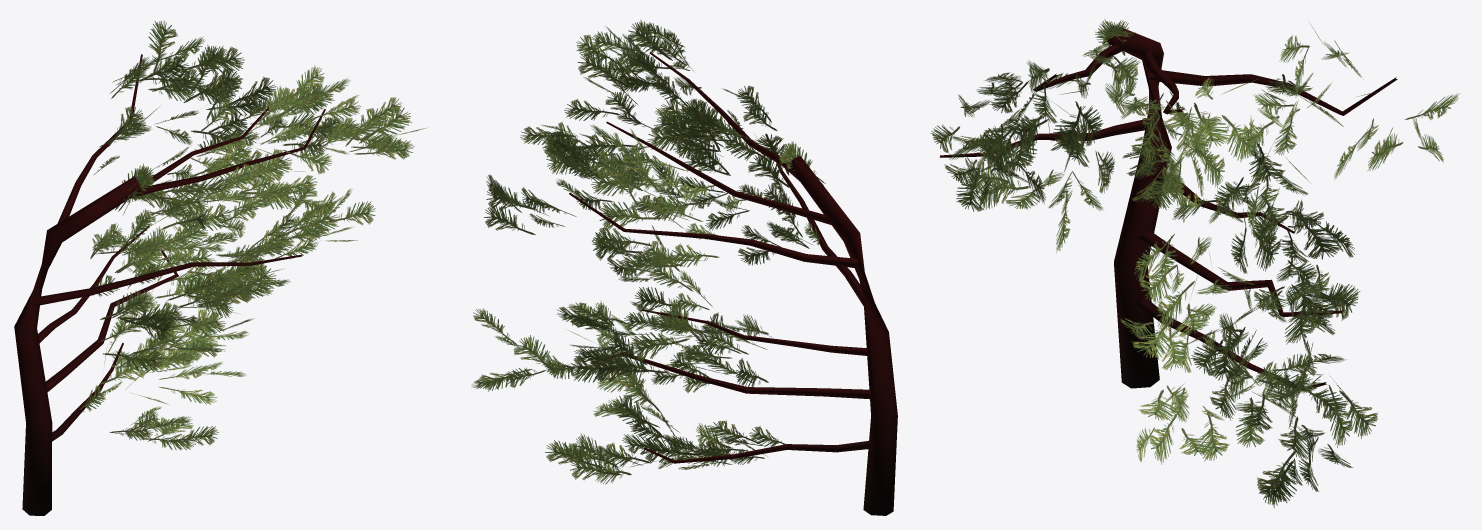
Rendered from krummholz_pine_v03_LOD2.glb.
3 views of the same model, side by side, from view 1: azimuth 30°, elevation 25°; view 2: azimuth 150°, elevation 25°; view 3: azimuth 270°, elevation 25° (orthographic). The views are drawn at different scales.
Visible parts, largest first — view 1: krummholz_pine_v03_LOD2; view 2: krummholz_pine_v03_LOD2; view 3: krummholz_pine_v03_LOD2.
Boxes of the visible parts, x1,y1,x2,y2 form: krummholz_pine_v03_LOD2: [14, 20, 425, 515]; krummholz_pine_v03_LOD2: [471, 20, 897, 515]; krummholz_pine_v03_LOD2: [930, 19, 1460, 507].
Bounding box in the file's own units: 3.3 × 3.54 × 3.4.
Materials: 2 (2 with a texture image).
